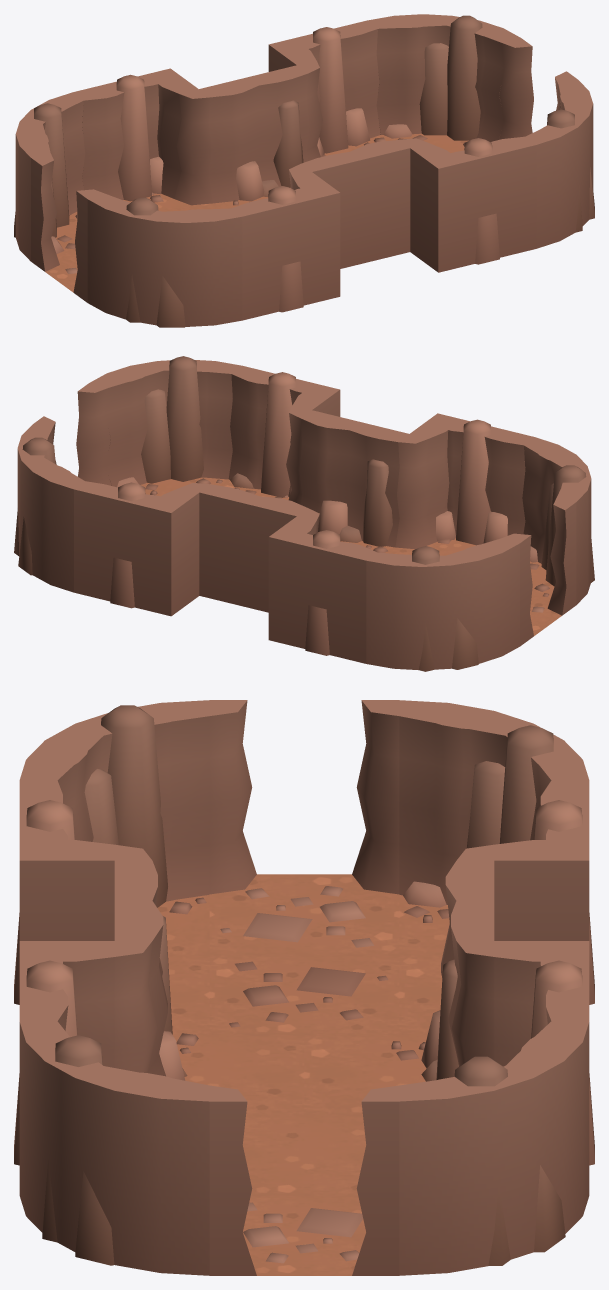
The model's file is room-wide-variation.glb.
3 views of the same model, one above another, from view 1: azimuth 30°, elevation 25°; view 2: azimuth 150°, elevation 25°; view 3: azimuth 270°, elevation 25° (orthographic). The views are drawn at different scales.
Parts seen in each view (by area): view 1: room-wide-variation; view 2: room-wide-variation; view 3: room-wide-variation.
Boxes of the visible parts, bbox=[...] form: room-wide-variation: bbox=[14, 14, 594, 327]; room-wide-variation: bbox=[14, 356, 594, 671]; room-wide-variation: bbox=[14, 700, 594, 1275].
Bounding box in the file's own units: 20 × 4.4 × 12.23.
Materials: 1 (1 with a texture image).
